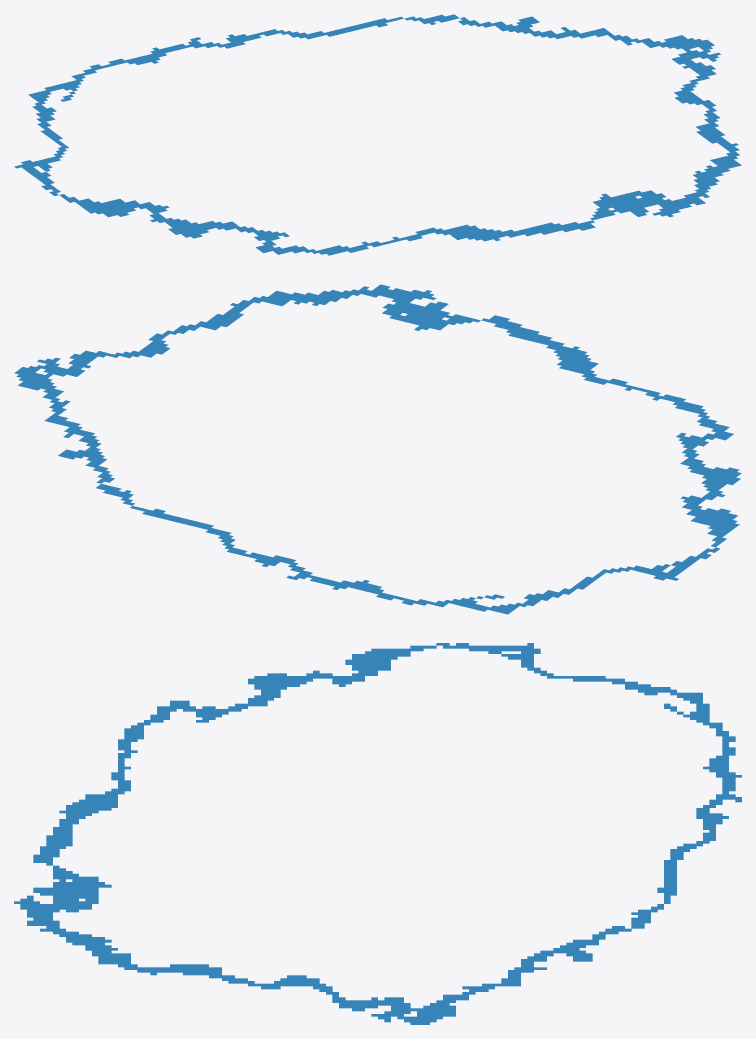
File: Isl-hilly1-PlaceForWaterObjects.fbx
3 renders of one model, top to bottom at view 1: azimuth 30°, elevation 25°; view 2: azimuth 150°, elevation 25°; view 3: azimuth 270°, elevation 25°, orthographic. The views are drawn at different scales.
Parts seen in each view (by area): view 1: Isl-hilly1-PlaceForWaterObjects; view 2: Isl-hilly1-PlaceForWaterObjects; view 3: Isl-hilly1-PlaceForWaterObjects.
Boxes of the visible parts, left/top/right/bottom form: Isl-hilly1-PlaceForWaterObjects: left=14, top=14, right=741, bottom=255; Isl-hilly1-PlaceForWaterObjects: left=14, top=284, right=741, bottom=614; Isl-hilly1-PlaceForWaterObjects: left=14, top=643, right=741, bottom=1024.
Size of the model in its own units: 139 by 0 by 112.
